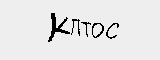Е: (71, 19, 87, 44)
Н: (45, 21, 71, 47)
С: (127, 18, 147, 40)
Ш: (86, 20, 107, 41)
Щ: (7, 20, 45, 50)
Қ: (108, 15, 129, 43)
